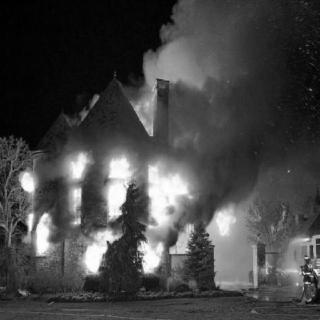Fire: (142, 164, 186, 224), (104, 152, 137, 220), (67, 147, 93, 225), (81, 229, 118, 273), (210, 203, 246, 240), (34, 206, 54, 254), (19, 162, 37, 192), (23, 209, 34, 233)
Smoke: (168, 0, 282, 196)
